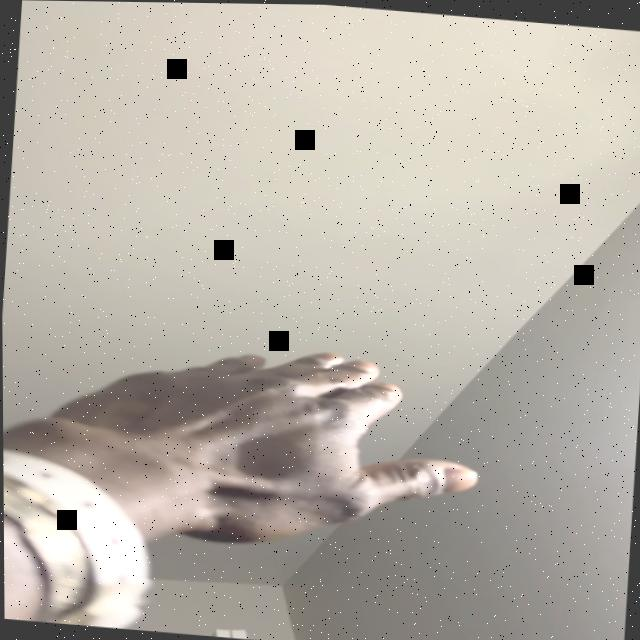Paper: (44, 329, 491, 562)
